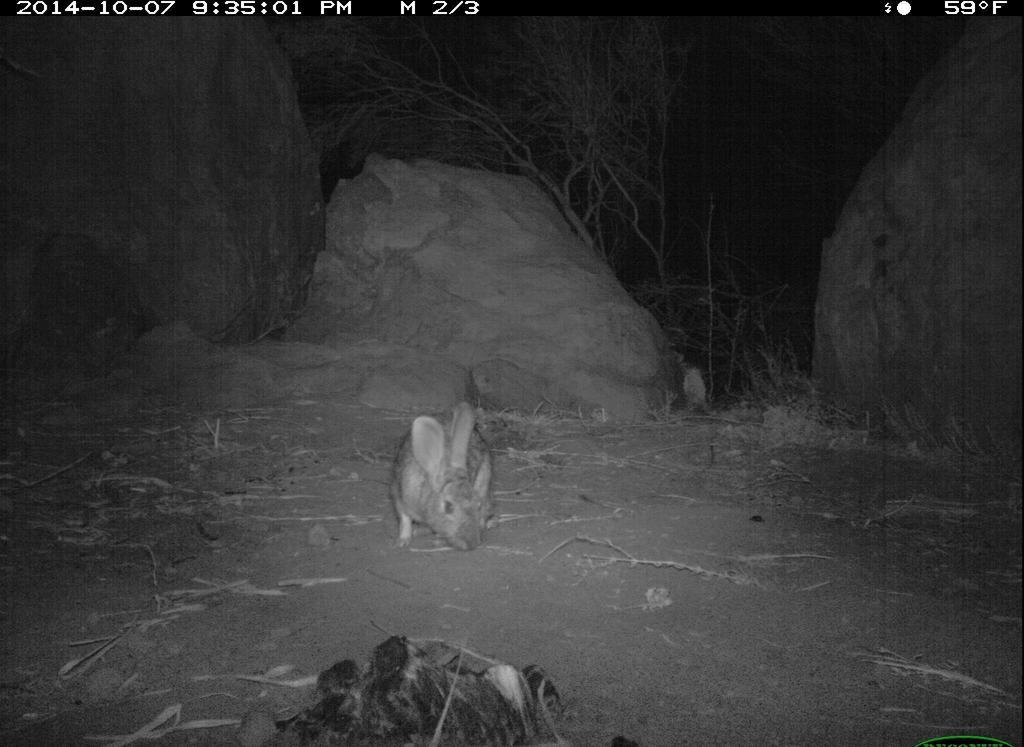rabbit: (374, 397, 538, 575)
